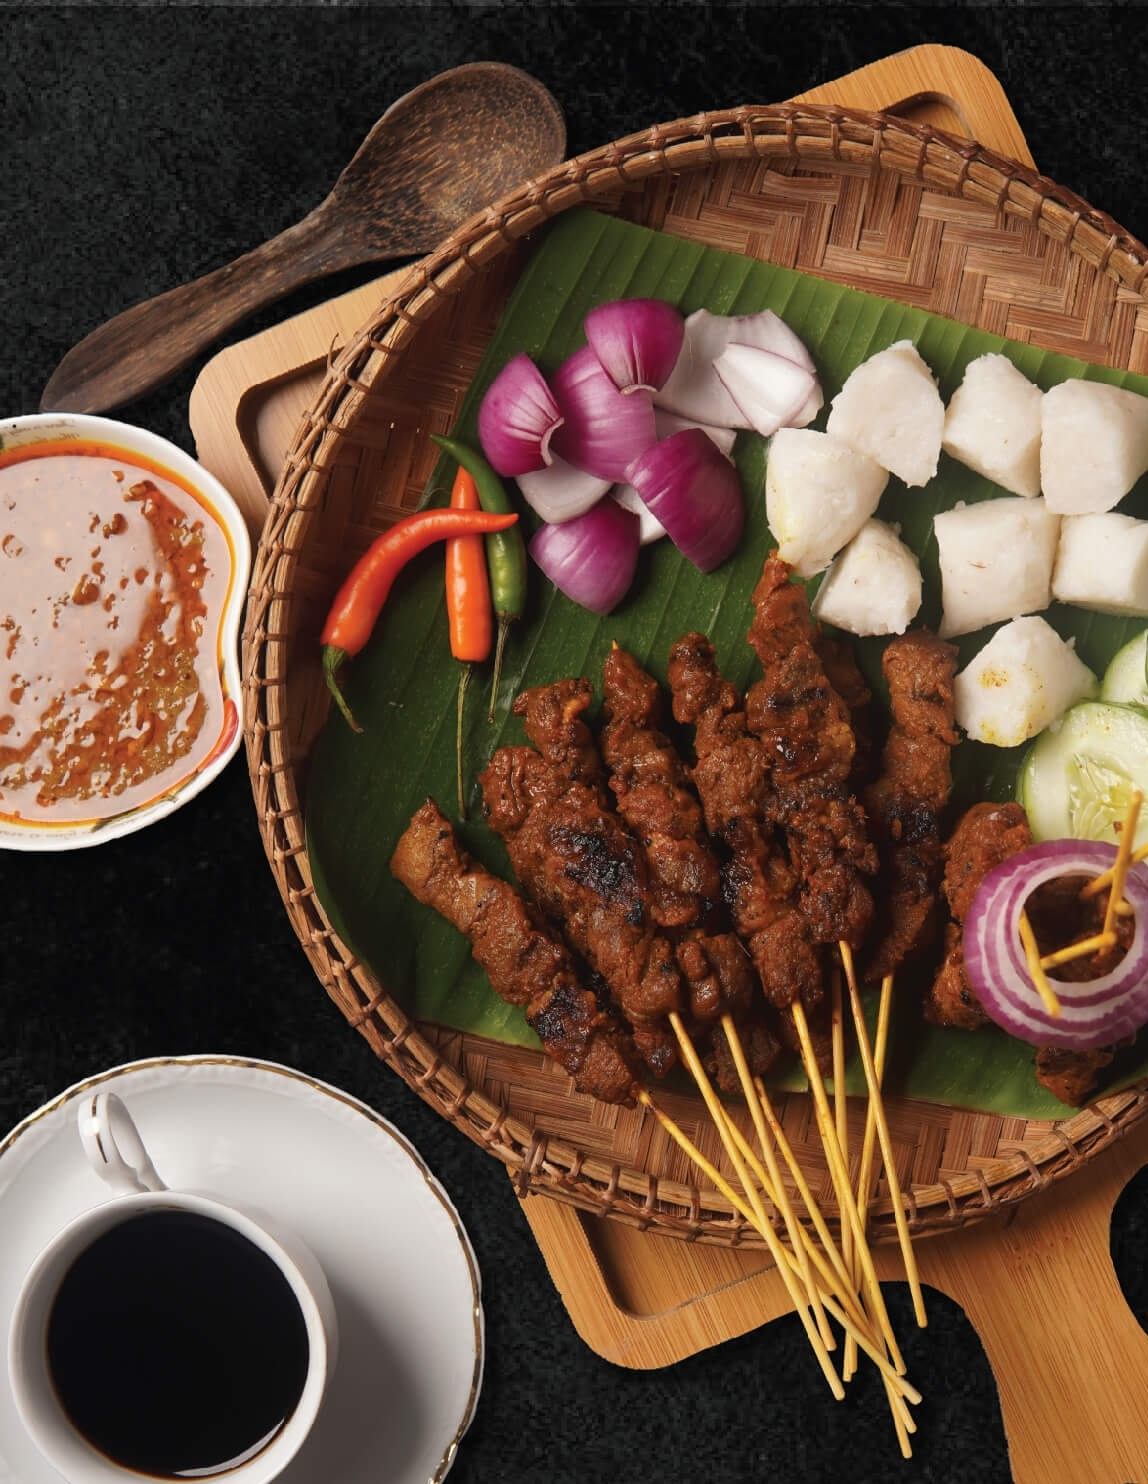sate: (395, 564, 937, 1457)
